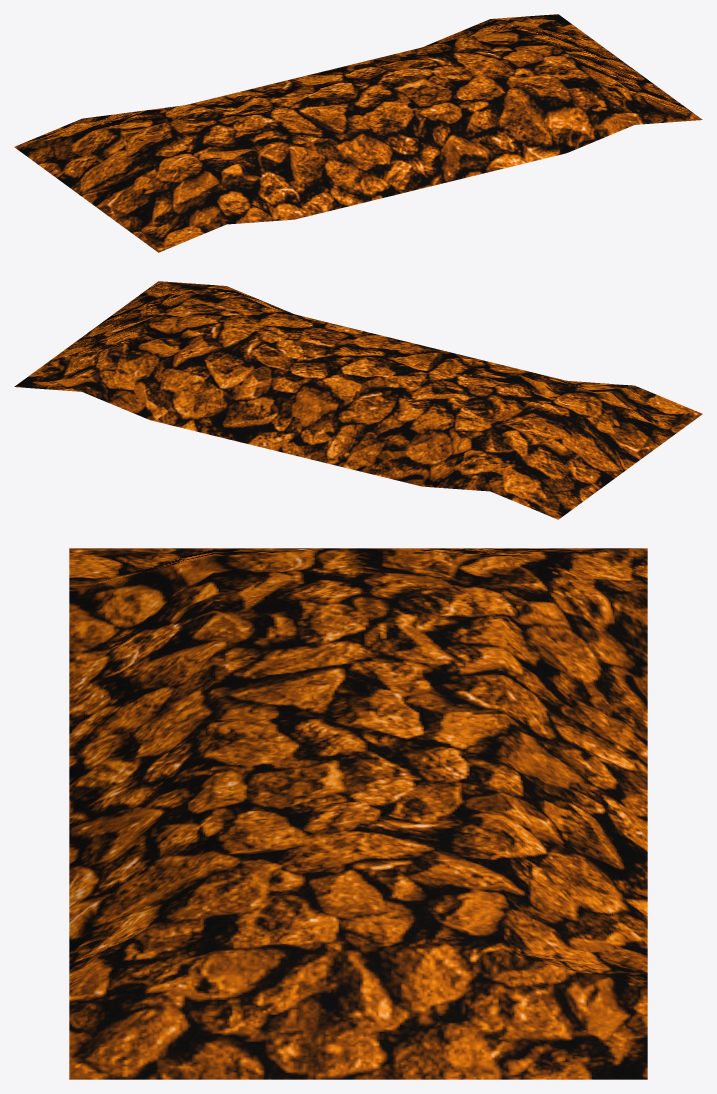
File: locomotive-01-wagon-02-ore-02.fbx
3 renders of one model, top to bottom at view 1: azimuth 30°, elevation 25°; view 2: azimuth 150°, elevation 25°; view 3: azimuth 270°, elevation 25°, orthographic. The views are drawn at different scales.
Visible parts, largest first — view 1: Cube.009_Mesh.001; view 2: Cube.009_Mesh.001; view 3: Cube.009_Mesh.001.
Part boxes in pixels (x1,y1,x2,y2): Cube.009_Mesh.001: (14, 14, 702, 252); Cube.009_Mesh.001: (14, 281, 702, 519); Cube.009_Mesh.001: (69, 548, 647, 1079).
Bounding box in the file's own units: 3.97 × 0.2976 × 1.83.
